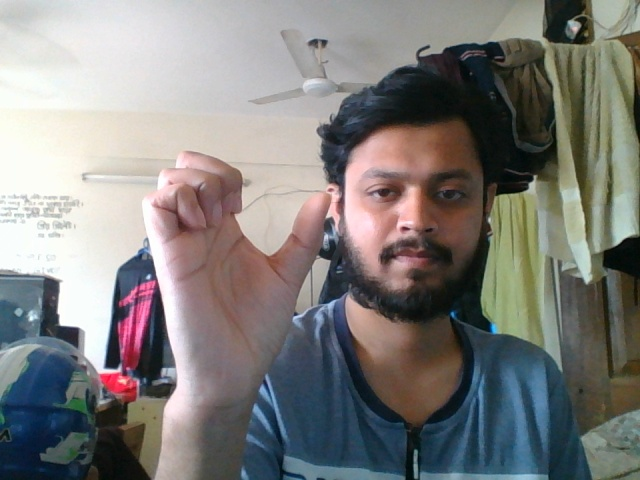kha: (114, 137, 341, 401)
